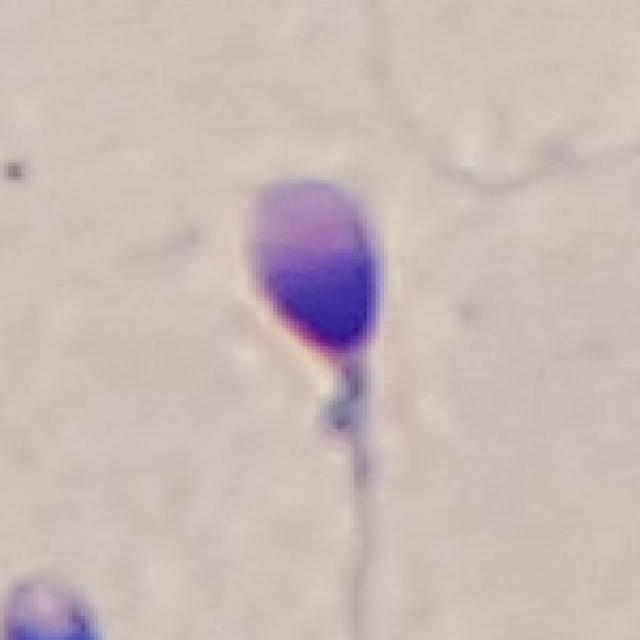normal sperm: (209, 156, 415, 626)
